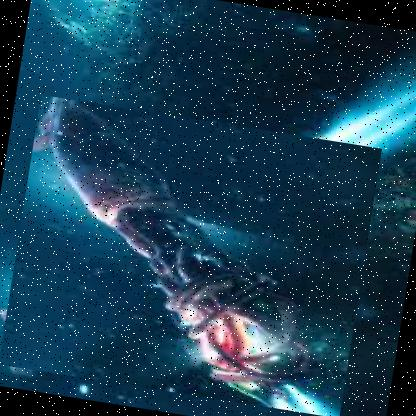colossal_squid: (0, 93, 384, 415)
